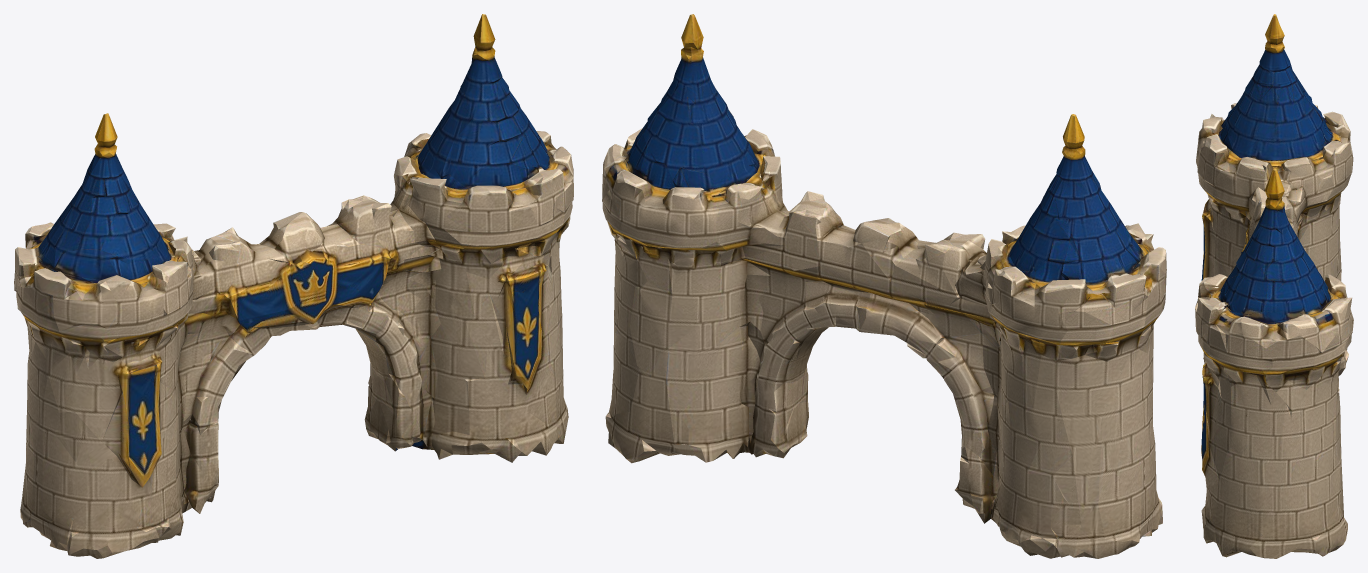
File: royal_gatehouse.glb
3 views of the same model, side by side, from view 1: azimuth 30°, elevation 25°; view 2: azimuth 150°, elevation 25°; view 3: azimuth 270°, elevation 25° (orthographic). The views are drawn at different scales.
Parts seen in each view (by area): view 1: output_unwrapped; view 2: output_unwrapped; view 3: output_unwrapped.
Part boxes in pixels (x1=…): output_unwrapped: x1=14, y1=14, x2=573, y2=558; output_unwrapped: x1=602, y1=14, x2=1166, y2=558; output_unwrapped: x1=1195, y1=14, x2=1353, y2=558.
Size of the model in its own units: 1.9 by 1.44 by 0.5589.
1 material, 1 textured.
